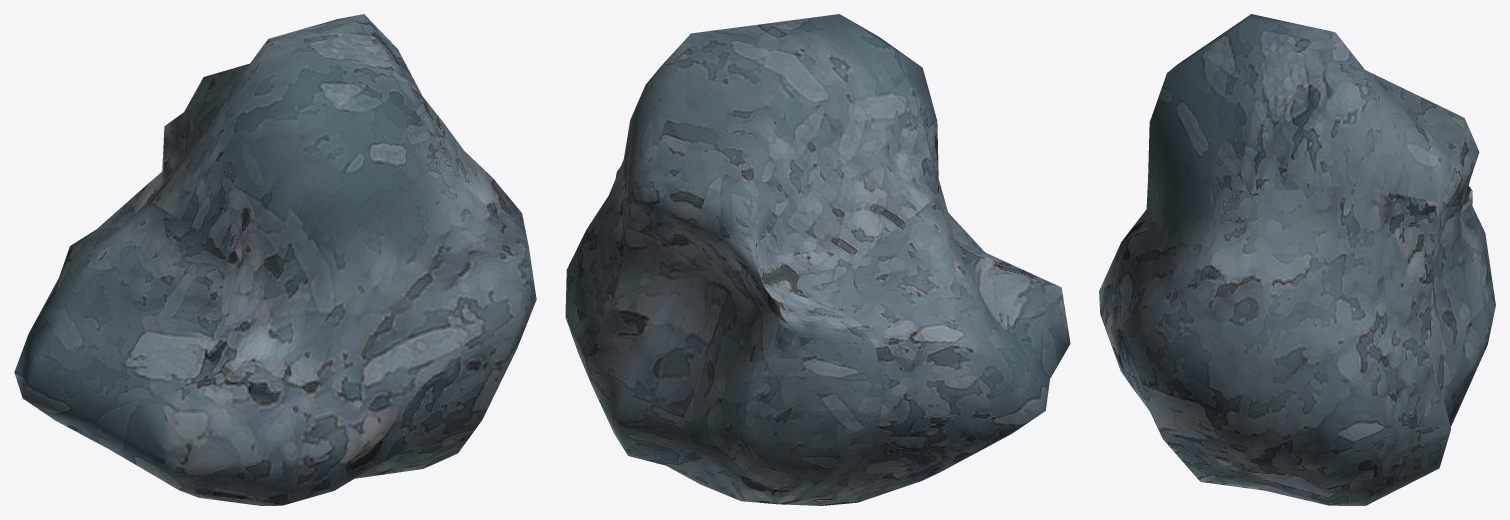
Rendered from rock46.fbx.
The picture shows the model from 3 angles, left to right: view 1: azimuth 30°, elevation 25°; view 2: azimuth 150°, elevation 25°; view 3: azimuth 270°, elevation 25°; orthographic projection.
Visible parts, largest first — view 1: pCube52; view 2: pCube52; view 3: pCube52.
Part boxes in pixels (<box>): pCube52: <box>14,14,536,505</box>; pCube52: <box>565,14,1070,505</box>; pCube52: <box>1099,14,1495,505</box>.
Bounding box in the file's own units: 4.73 × 4.27 × 3.48.
